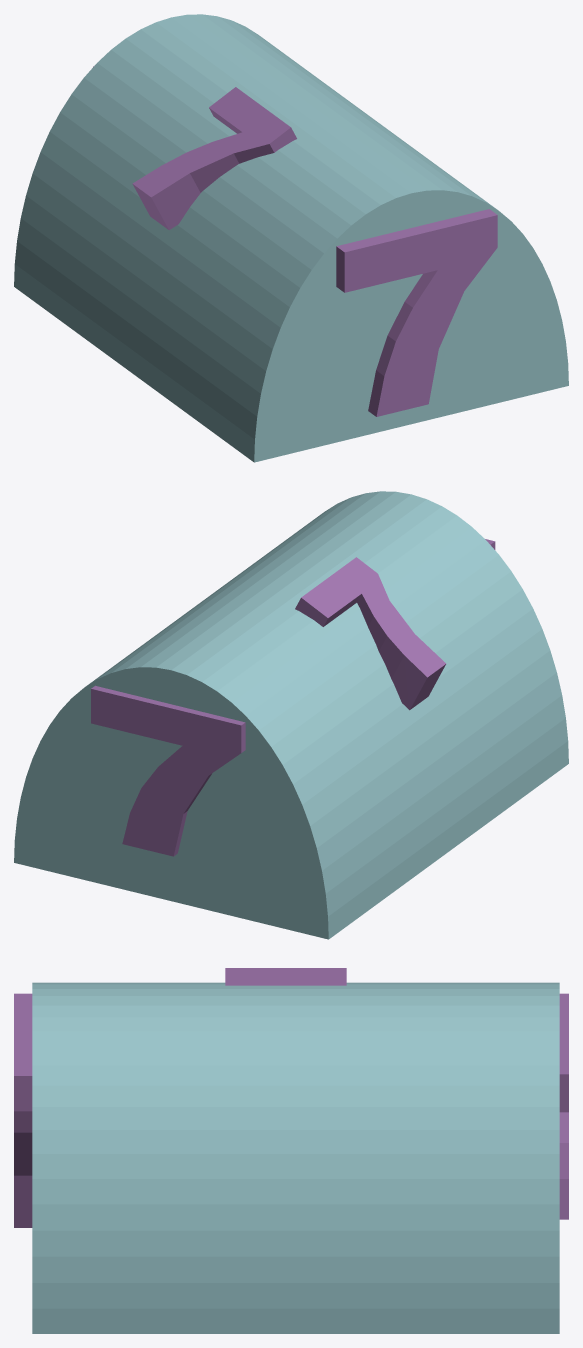
File: number7.glb
3 views of the same model, one above another, from view 1: azimuth 30°, elevation 25°; view 2: azimuth 150°, elevation 25°; view 3: azimuth 270°, elevation 25° (orthographic). The views are drawn at different scales.
Visible parts, largest first — view 1: Mesh_Mesh_head_geo.001_lambert2SG.001; view 2: Mesh_Mesh_head_geo.001_lambert2SG.001; view 3: Mesh_Mesh_head_geo.001_lambert2SG.001.
Boxes of the visible parts, x1,y1,x2,y2 form: Mesh_Mesh_head_geo.001_lambert2SG.001: (14, 14, 568, 462); Mesh_Mesh_head_geo.001_lambert2SG.001: (14, 491, 568, 939); Mesh_Mesh_head_geo.001_lambert2SG.001: (14, 968, 568, 1333).
Bounding box in the file's own units: 0.087 × 0.0635 × 0.121.
